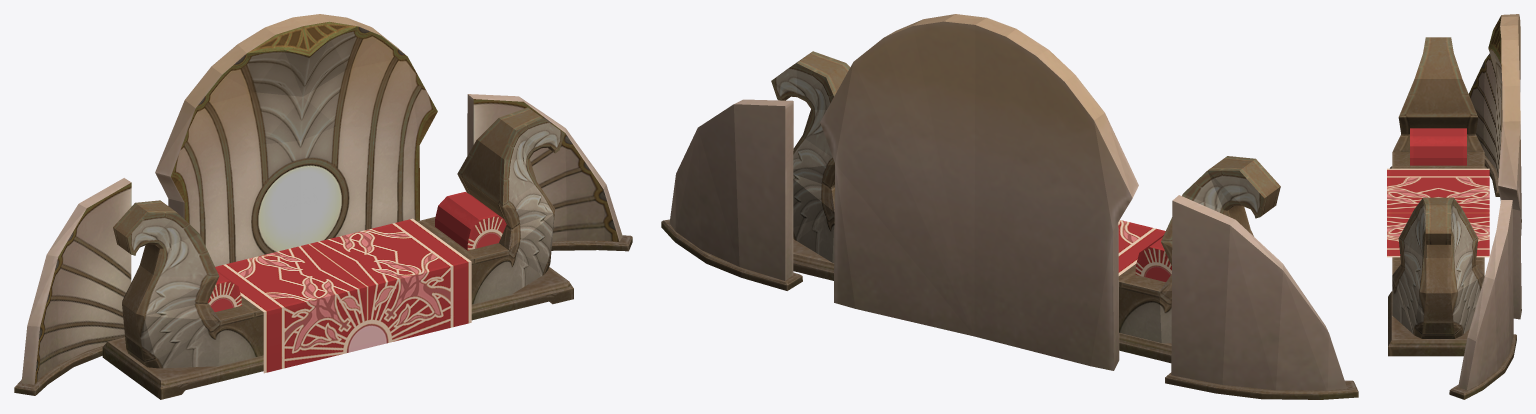
File: mod_zlc_jianzhu058_xy.FBX
3 renders of one model, left to right at view 1: azimuth 30°, elevation 25°; view 2: azimuth 150°, elevation 25°; view 3: azimuth 270°, elevation 25°, orthographic. The views are drawn at different scales.
Visible parts, largest first — view 1: mod_zlc_jianzhu058_xy; view 2: mod_zlc_jianzhu058_xy; view 3: mod_zlc_jianzhu058_xy.
Part boxes in pixels (box(x1,y1,x2,y2)): mod_zlc_jianzhu058_xy: box(14, 14, 632, 399); mod_zlc_jianzhu058_xy: box(661, 14, 1358, 399); mod_zlc_jianzhu058_xy: box(1387, 14, 1521, 399).
Size of the model in its own units: 757 by 325 by 163.
